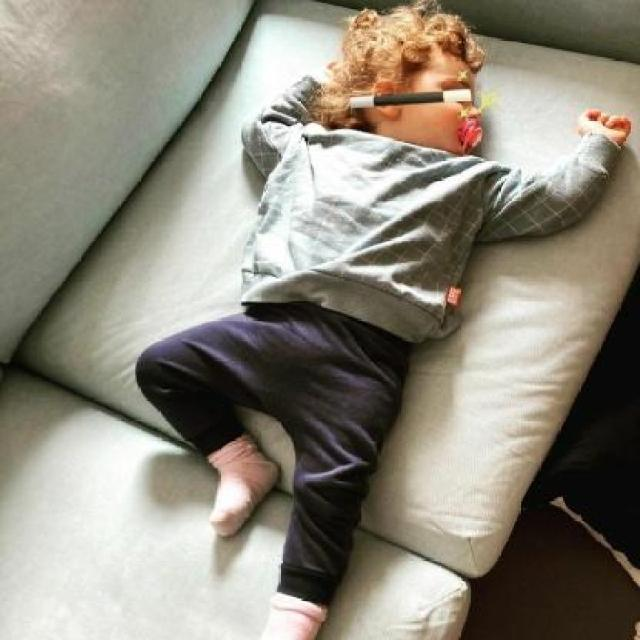baby: (134, 3, 631, 639)
